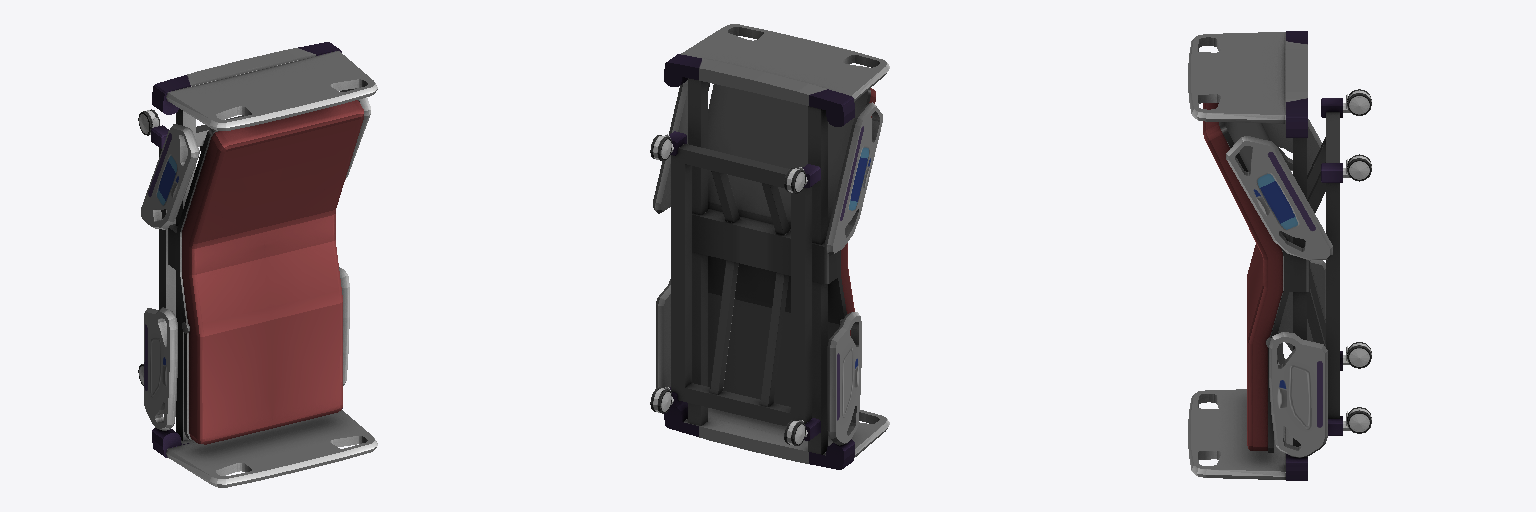
3 views of the same model, side by side, from view 1: azimuth 30°, elevation 25°; view 2: azimuth 150°, elevation 25°; view 3: azimuth 270°, elevation 25° (orthographic).
Parts seen in each view (by area): view 1: CGMVanguard; view 2: CGMVanguard; view 3: CGMVanguard.
Part boxes in pixels (x1,y1,x2,y2): CGMVanguard: (138,42,377,487); CGMVanguard: (650,24,889,469); CGMVanguard: (1188,31,1371,480).
Size of the model in its own units: 109 by 214 by 96.01.
Materials: 2 (2 with a texture image).